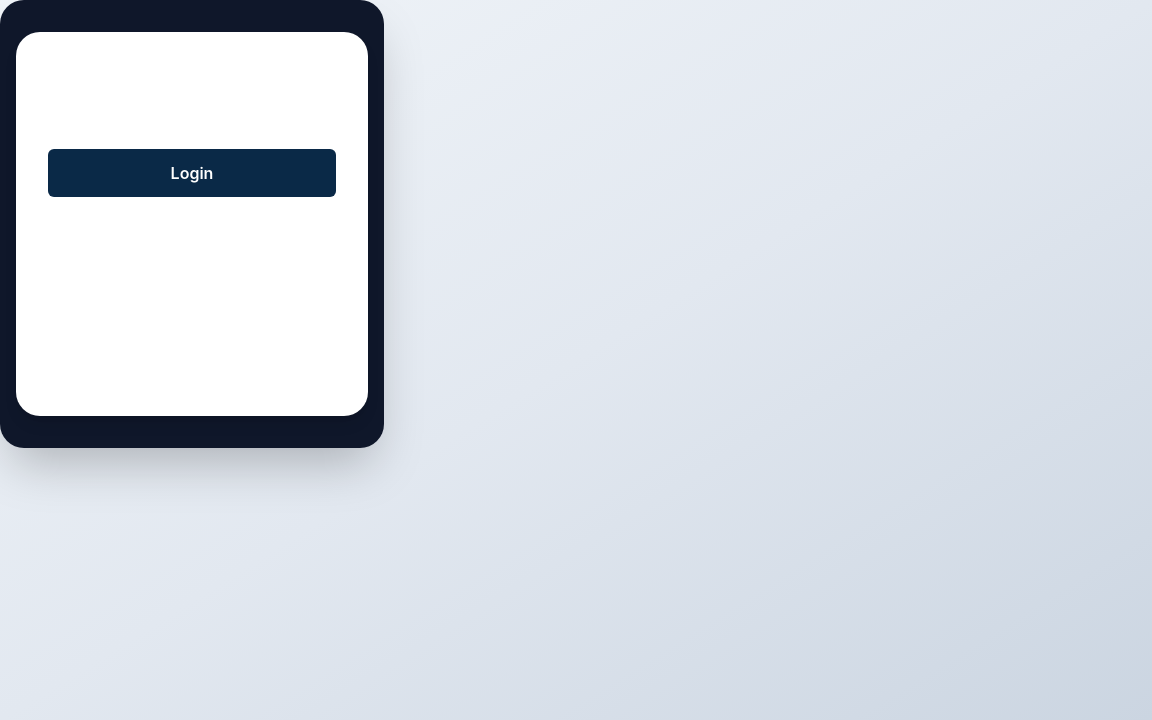
LoginForm Component › shows validation error when both fields are empty
The image size is (1152, 720).
Step 1. Click the button "Login" → {"x": 192, "y": 173}, box left=48, top=149, right=336, bottom=197
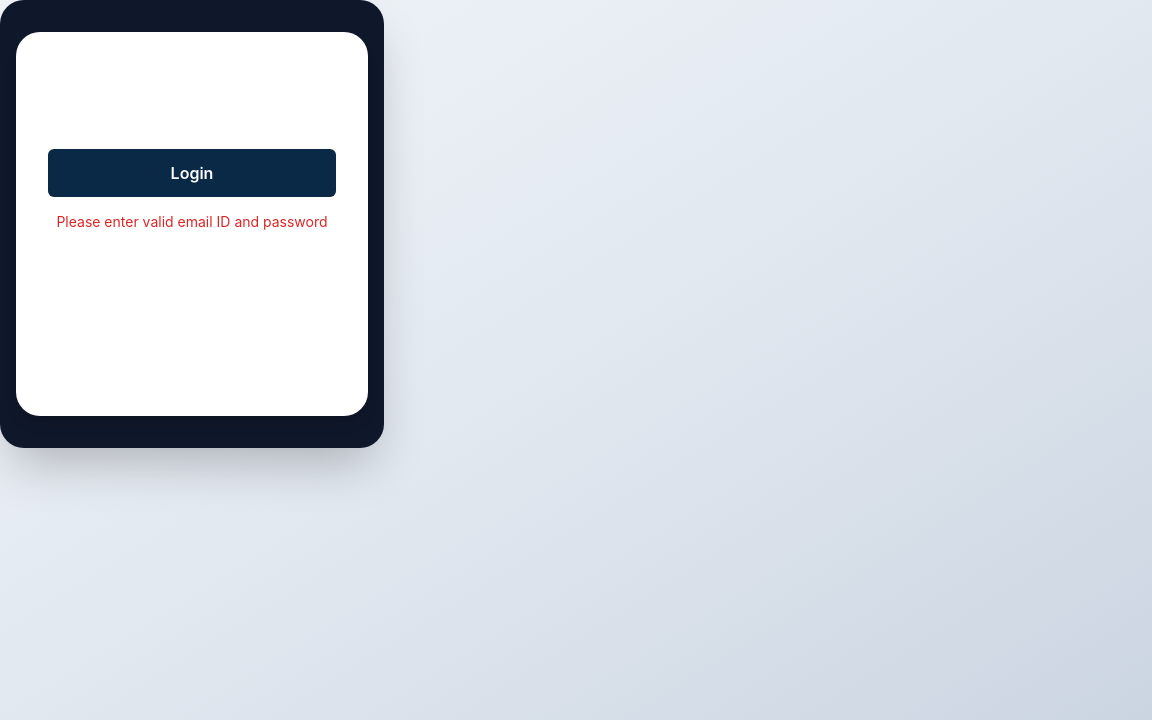
Result: the text "Please enter valid email ID and password" is shown at left=48, top=212, right=336, bottom=232
